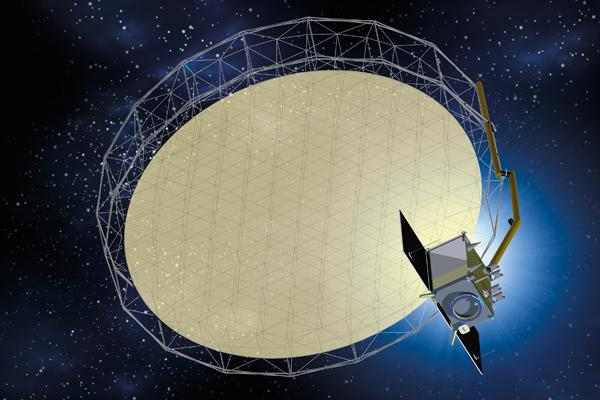body: (427, 231, 497, 332)
solar: (434, 294, 485, 377), (397, 207, 433, 292)
